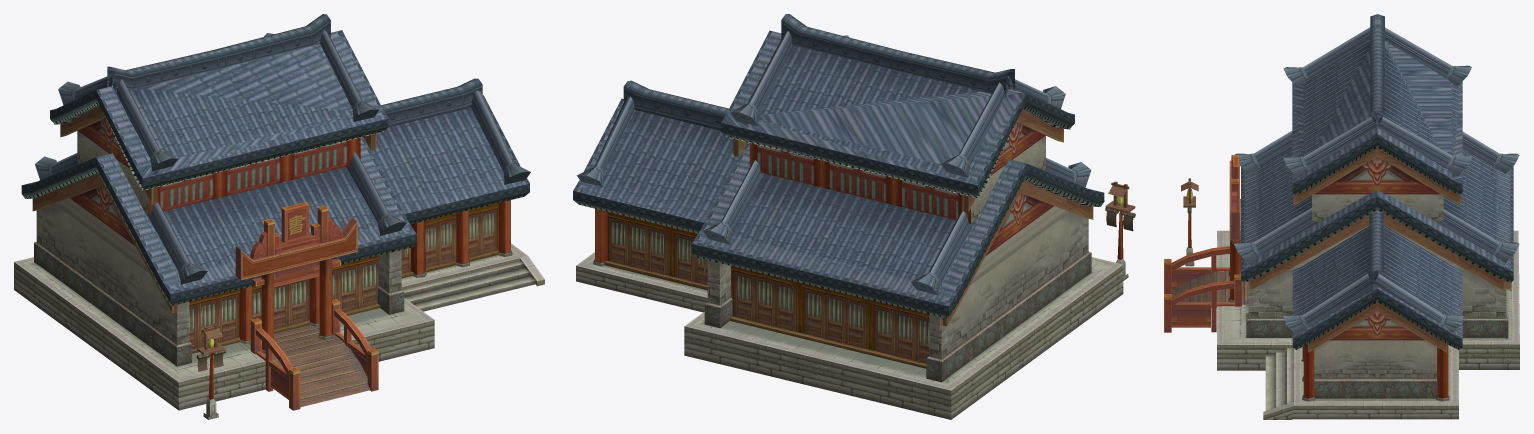
3 renders of one model, left to right at view 1: azimuth 30°, elevation 25°; view 2: azimuth 150°, elevation 25°; view 3: azimuth 270°, elevation 25°, orthographic. The views are drawn at different scales.
Parts seen in each view (by area): view 1: gujian_379, gujian_378, gujian_380, gujian_373, gujian_377, gujian_371, gujian_374, gujian_376, gujian_375, gujian_372; view 2: gujian_379, gujian_377, gujian_380, gujian_376, gujian_371, gujian_373, gujian_374, gujian_372, gujian_375, gujian_378; view 3: gujian_379, gujian_380, gujian_377, gujian_374, gujian_371, gujian_372, gujian_378, gujian_373, gujian_375.
Part boxes in pixels (bbox=[...]): gujian_379: bbox=[21, 30, 416, 302]; gujian_378: bbox=[196, 202, 378, 419]; gujian_380: bbox=[35, 14, 530, 284]; gujian_373: bbox=[34, 137, 512, 399]; gujian_377: bbox=[14, 117, 544, 410]; gujian_371: bbox=[363, 95, 529, 221]; gujian_374: bbox=[36, 130, 401, 344]; gujian_376: bbox=[189, 203, 498, 353]; gujian_375: bbox=[25, 250, 535, 377]; gujian_372: bbox=[22, 99, 529, 313]; gujian_379: bbox=[691, 30, 1104, 315]; gujian_377: bbox=[576, 122, 1123, 419]; gujian_380: bbox=[577, 14, 1091, 295]; gujian_376: bbox=[603, 212, 929, 368]; gujian_371: bbox=[573, 98, 747, 230]; gujian_373: bbox=[593, 143, 1123, 382]; gujian_374: bbox=[707, 135, 1088, 358]; gujian_372: bbox=[573, 102, 1103, 329]; gujian_375: bbox=[588, 259, 1111, 385]; gujian_378: bbox=[1105, 181, 1135, 280]; gujian_379: bbox=[1241, 41, 1513, 279]; gujian_380: bbox=[1234, 14, 1519, 335]; gujian_377: bbox=[1217, 156, 1519, 419]; gujian_374: bbox=[1248, 194, 1506, 378]; gujian_371: bbox=[1292, 225, 1462, 346]; gujian_372: bbox=[1241, 143, 1513, 352]; gujian_378: bbox=[1164, 155, 1248, 332]; gujian_373: bbox=[1188, 199, 1508, 401]; gujian_375: bbox=[1224, 233, 1512, 410].
Size of the model in its own units: 1.67 by 1.12 by 1.43.
Materials: 10 (10 with a texture image).
